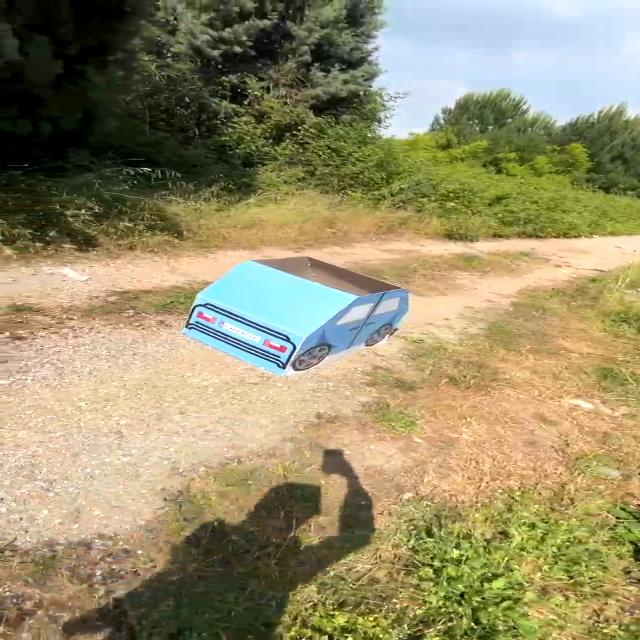blue_car: (155, 250, 427, 377)
